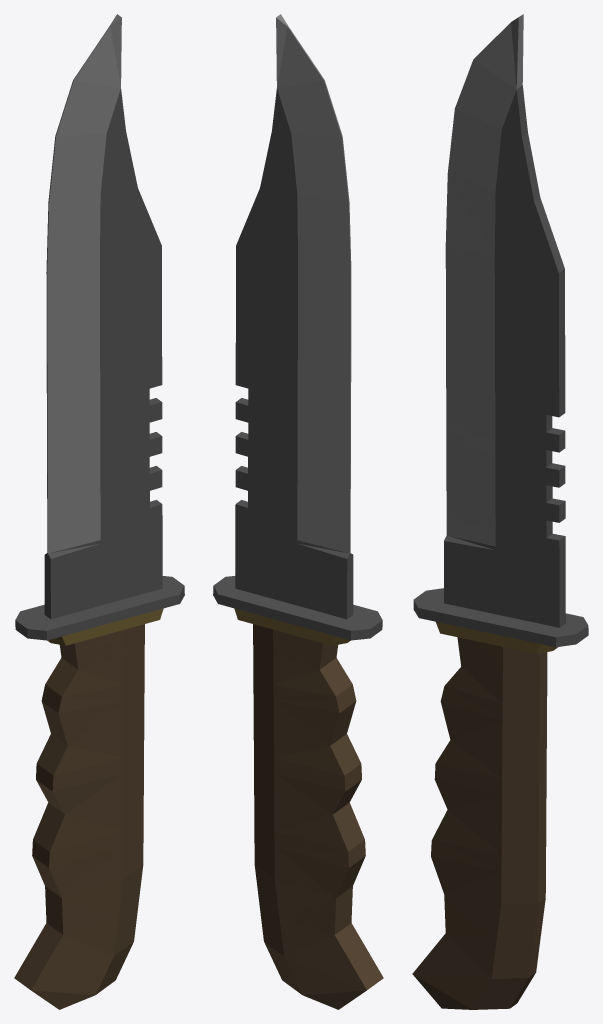
The model's file is knife.glb.
3 renders of one model, left to right at view 1: azimuth 30°, elevation 25°; view 2: azimuth 150°, elevation 25°; view 3: azimuth 330°, elevation 25°, orthographic. The views are drawn at different scales.
Parts seen in each view (by area): view 1: Knife; view 2: Knife; view 3: Knife.
Part boxes in pixels (x1,y1,x2,y2): Knife: (14,14,184,1009); Knife: (213,14,383,1009); Knife: (412,14,588,1009).
Size of the model in its own units: 0.2654 by 1.56 by 0.0778.
